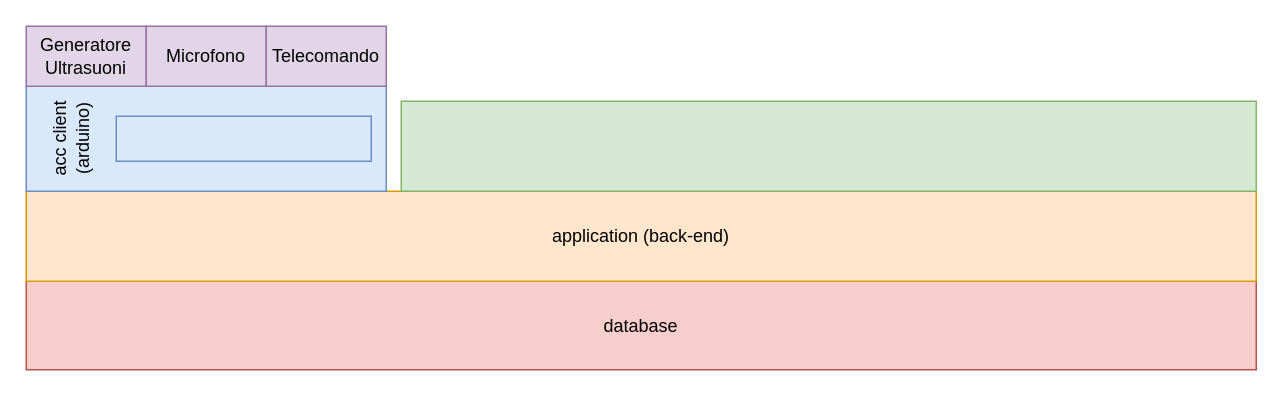
Some shapes in this 1283 by 396 pixel diagram are drawn without their labels. The shapes that lost their labels are listed below. From the top down, each one's centre as x and y in pixels, then its label:
(243,138): arduino (ino)
(828,145): front-end
